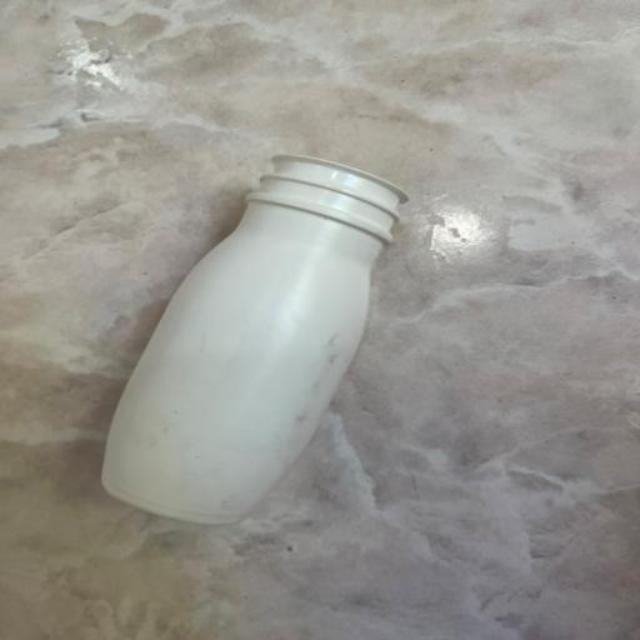HDPE: (93, 126, 406, 552)
